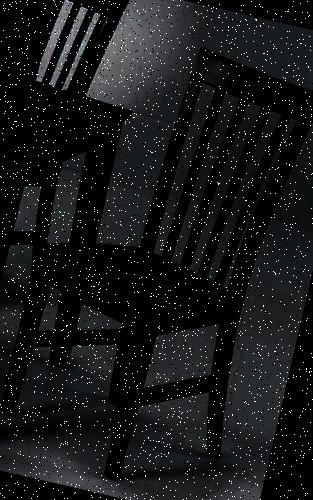Silla: (0, 22, 312, 499)
